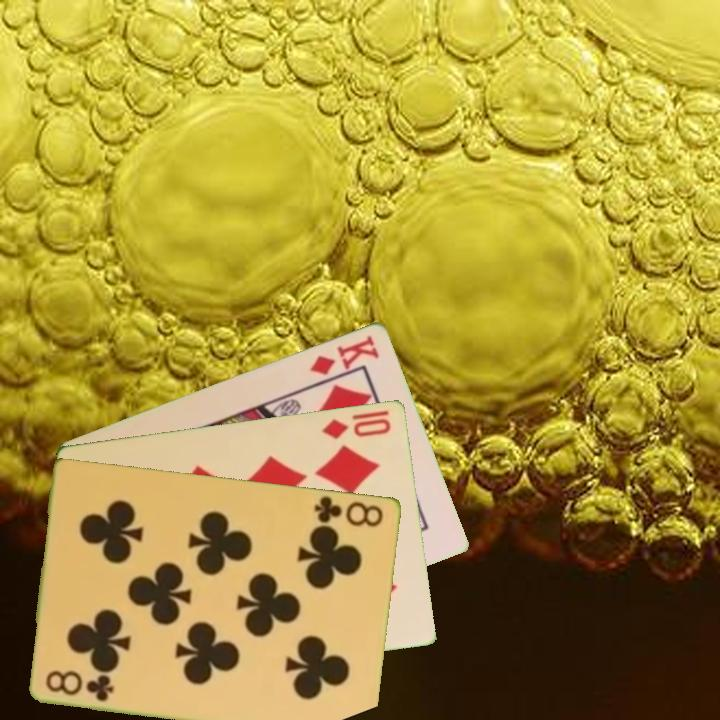10d: (319, 414, 394, 442)
8c: (311, 492, 387, 529), (42, 667, 117, 704)
Kd: (306, 331, 383, 378)
